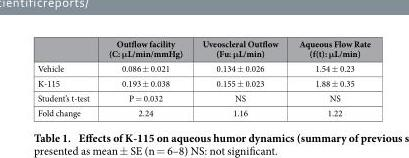table: (36, 37, 369, 118)
table column: (191, 37, 287, 118), (98, 37, 191, 118), (287, 37, 369, 118), (36, 37, 98, 118)
table column header: (36, 37, 369, 60)
table row: (36, 37, 369, 60), (36, 60, 369, 75), (36, 75, 369, 90), (36, 90, 369, 105), (36, 105, 369, 118)
